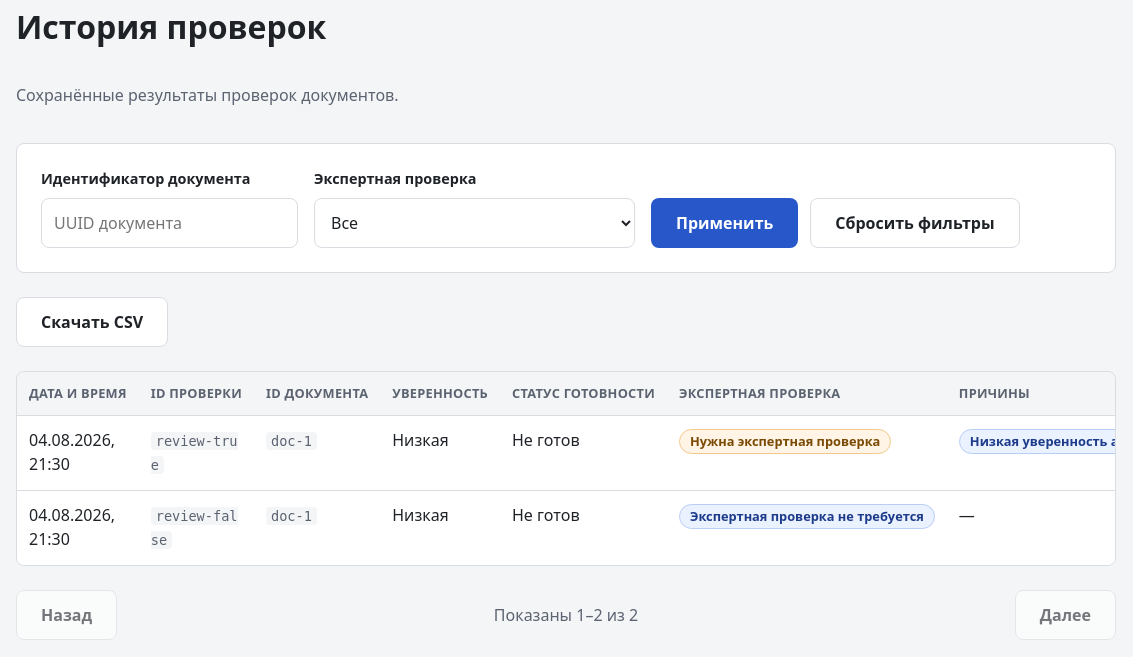
Test: ReviewsDashboardPage › needs_review=false формирует точный query needs_review=false
Expected: the table is shown, [17,372,1116,565]
Select "Экспертная проверка не требуется" in the dropdown labelled "Экспертная проверка" at [474, 223], box [314,198,635,248]
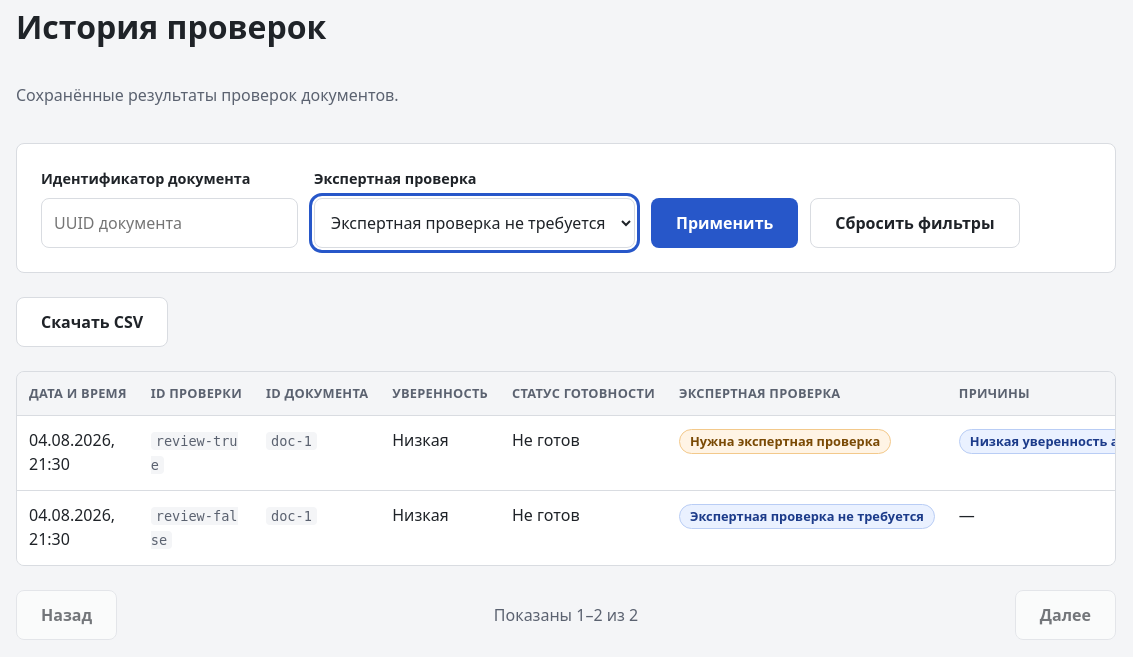
Click the button "Применить" at [725, 223], box [651,198,798,248]
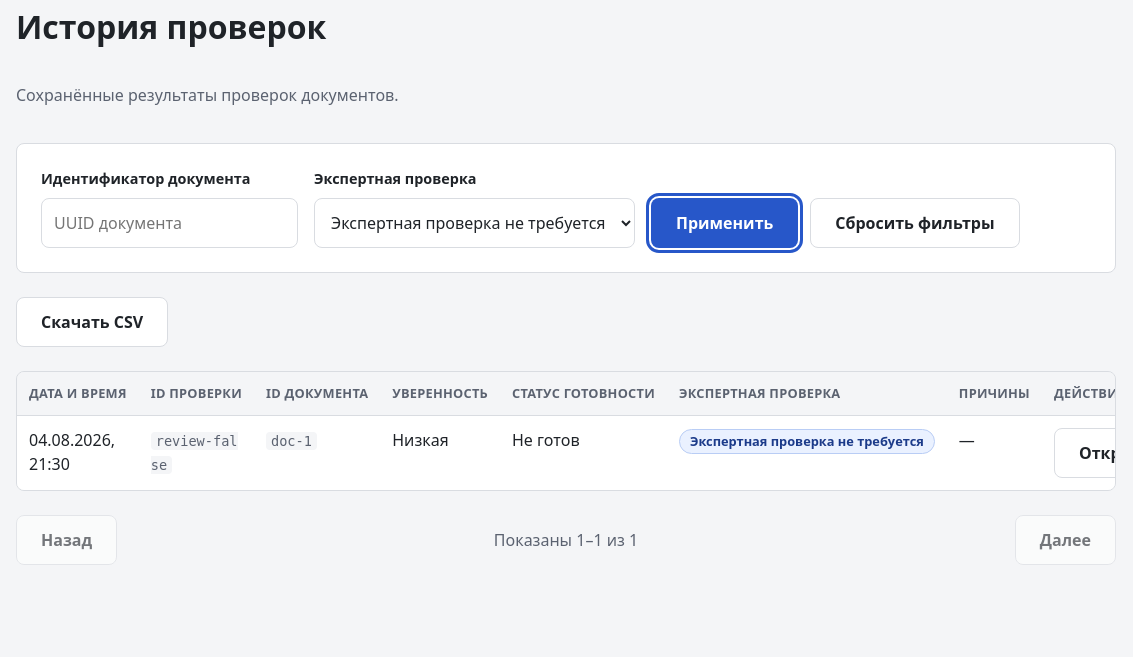
Expected: the text "review-false" is shown, [151,432,238,474]
Expected: the text "review-true" is gone
